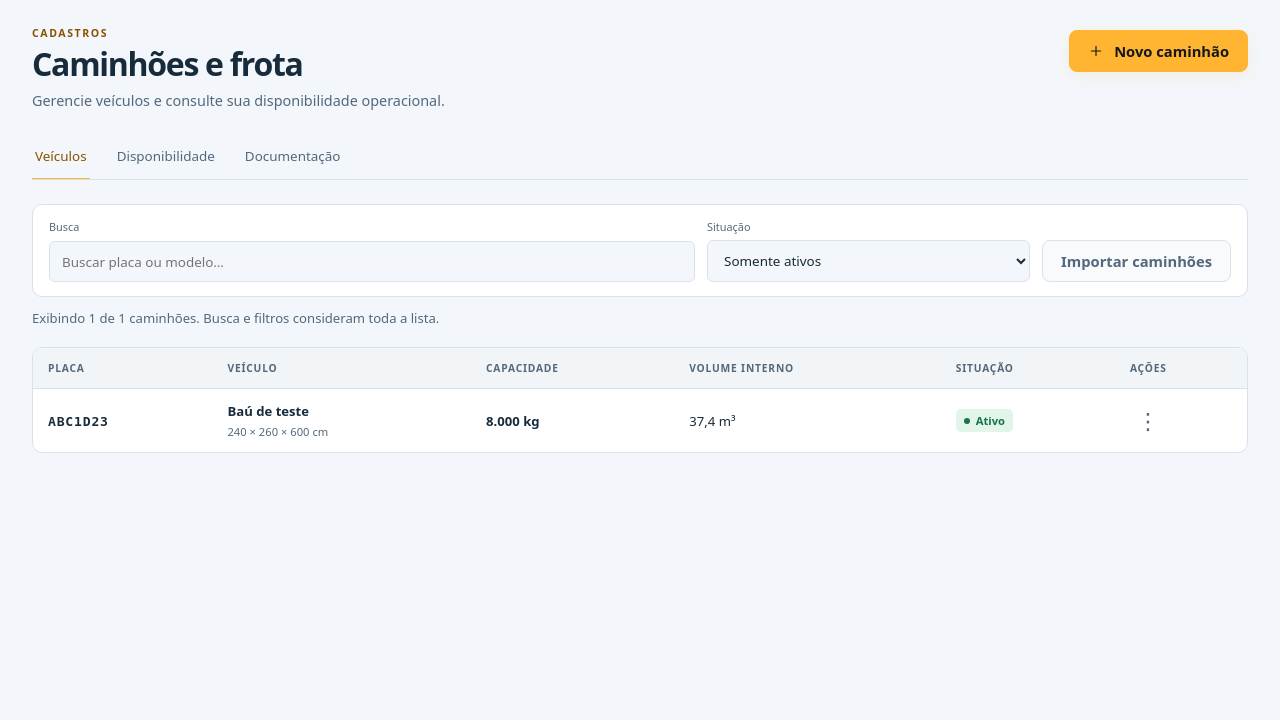
Test: Caminhões e frota › inicia em veículos e consulta disponibilidade apenas ao abrir a aba
The image size is (1280, 720).
Expected: the text "ABC1D23" is shown, [48, 414, 109, 429]
Click the link "Disponibilidade" at (166, 156), box [117, 147, 215, 165]
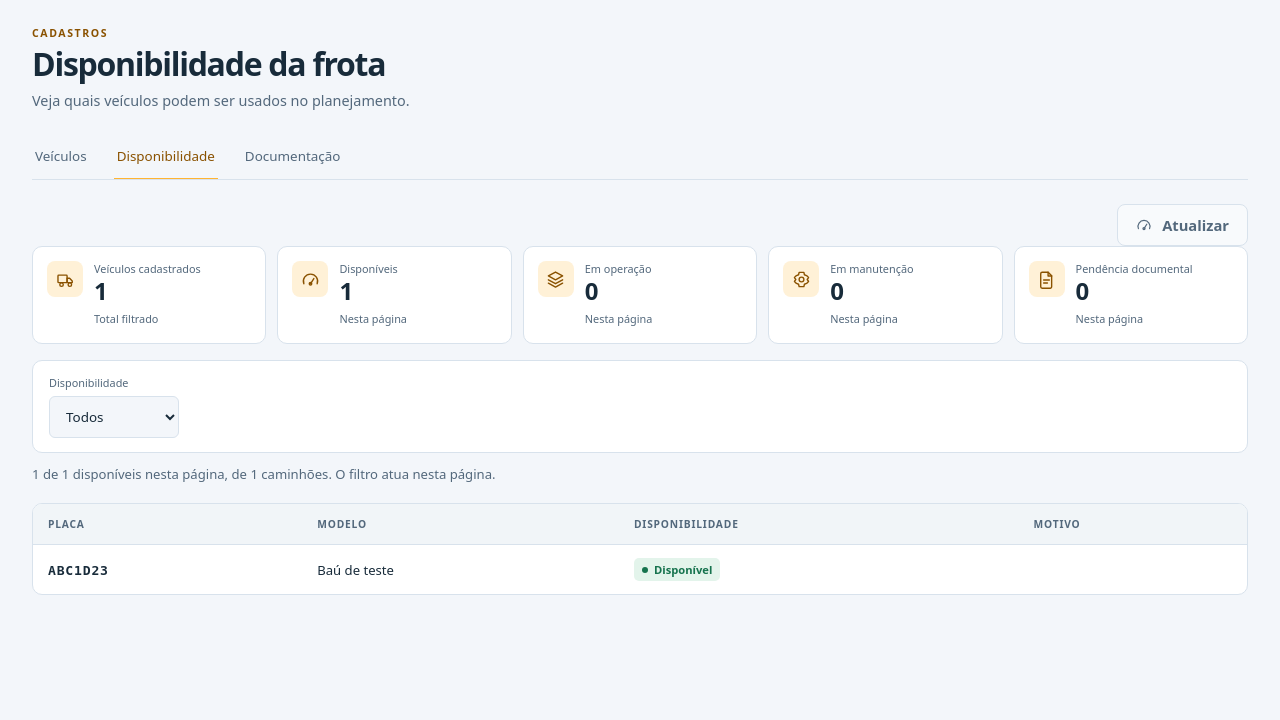
Now the text "Disponível" is shown, box [654, 562, 712, 577]
Now the text "disponíveis nesta página" is shown, box [69, 465, 250, 483]
